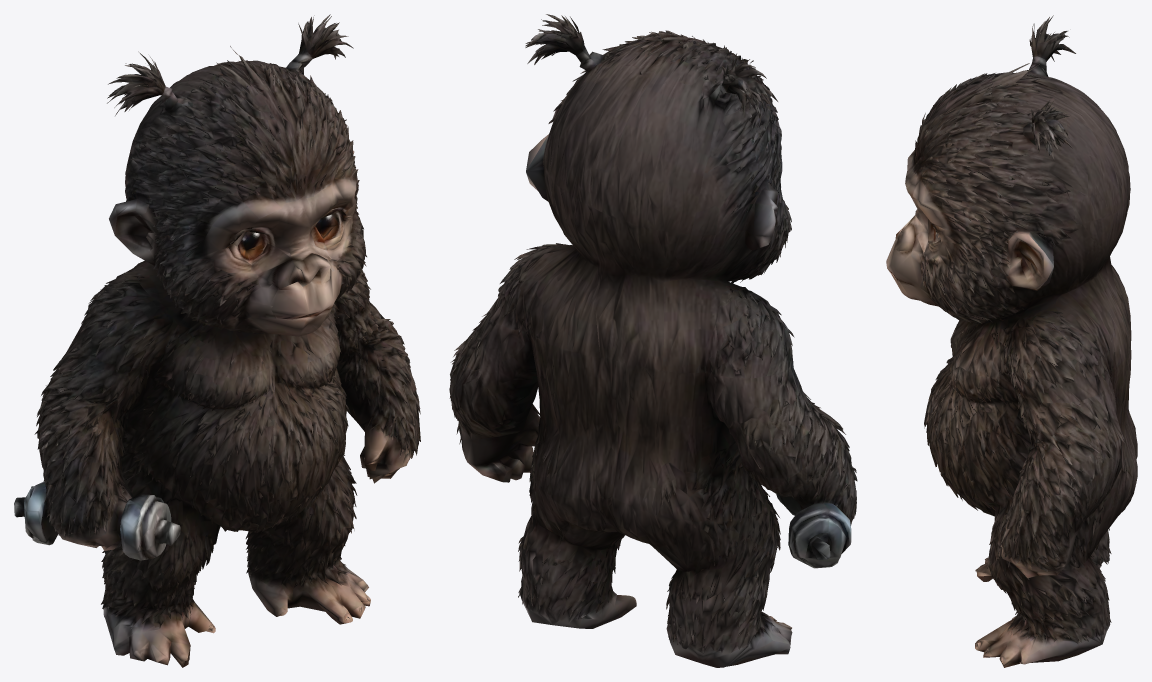
Rendered from goro_2.glb.
The picture shows the model from 3 angles, left to right: view 1: azimuth 30°, elevation 25°; view 2: azimuth 150°, elevation 25°; view 3: azimuth 270°, elevation 25°; orthographic projection. The views are drawn at different scales.
Size of the model in its own units: 0.6645 by 0.9774 by 0.397.
Materials: 1 (1 with a texture image).
